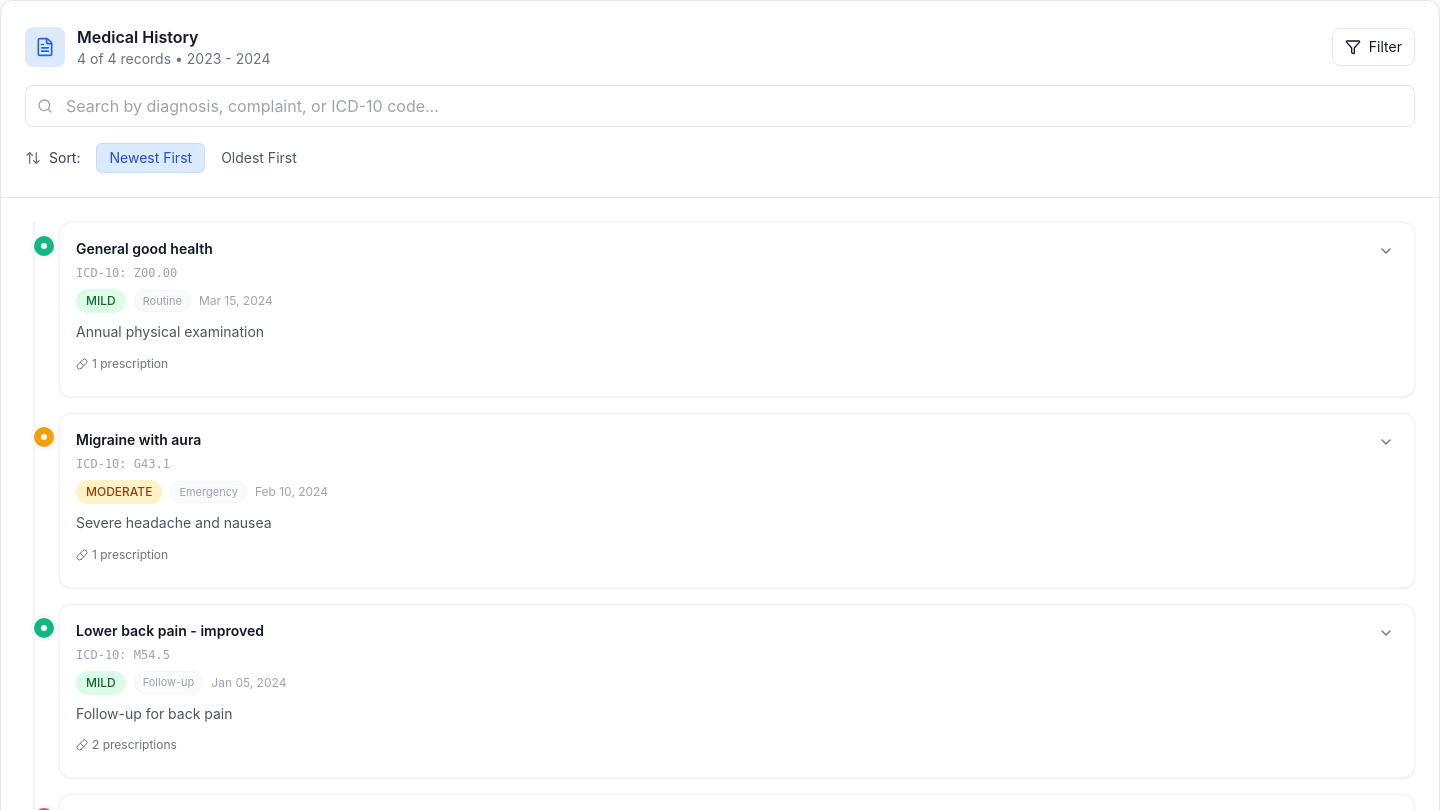
Test: MedicalHistoryTimeline › Search Functionality › can clear search
Type "migraine" into the search field named "search medical history" at coordinates (720, 106), box left=25, top=85, right=1415, bottom=127
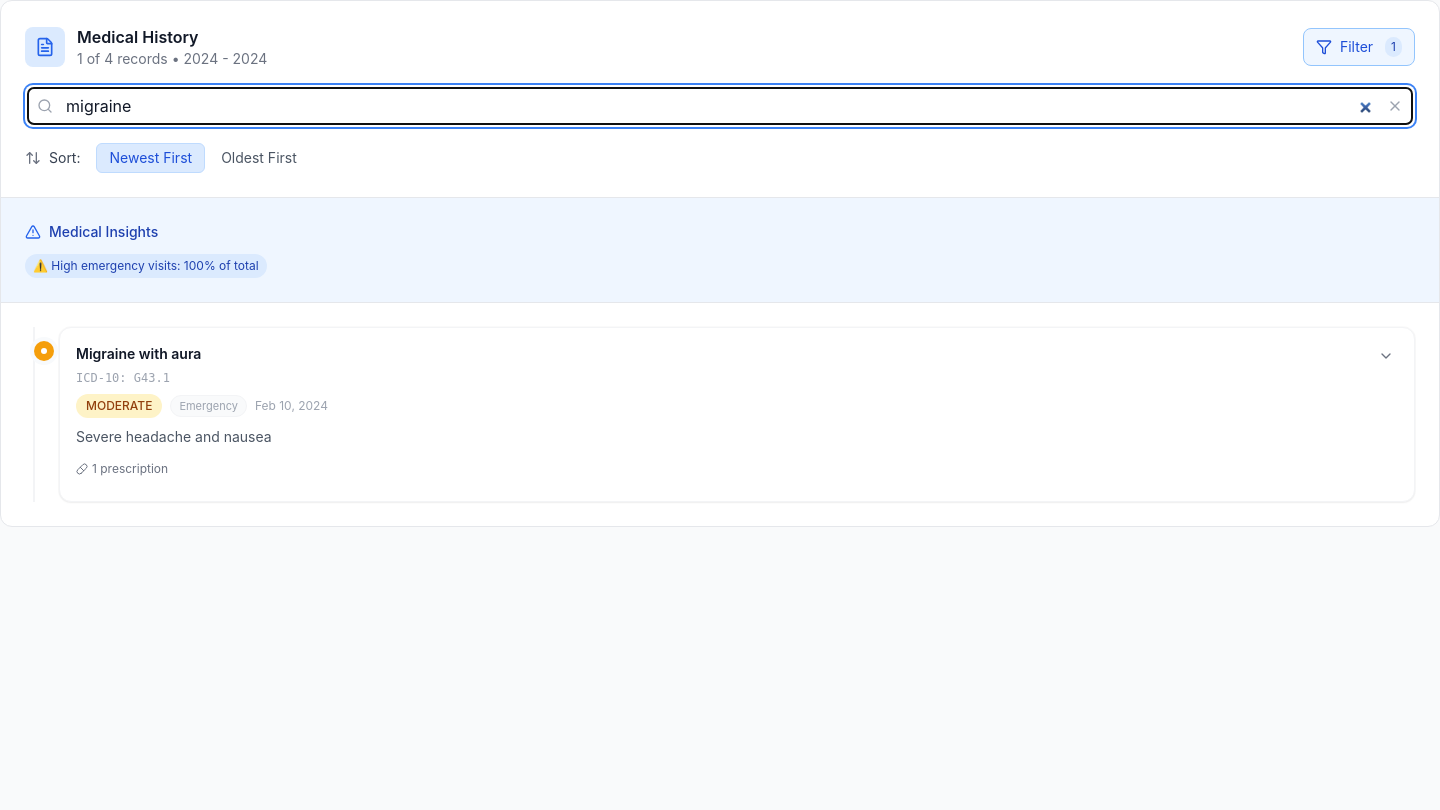
# Clear search
Click the button named "clear search" at coordinates (1395, 106), box left=1387, top=98, right=1403, bottom=114
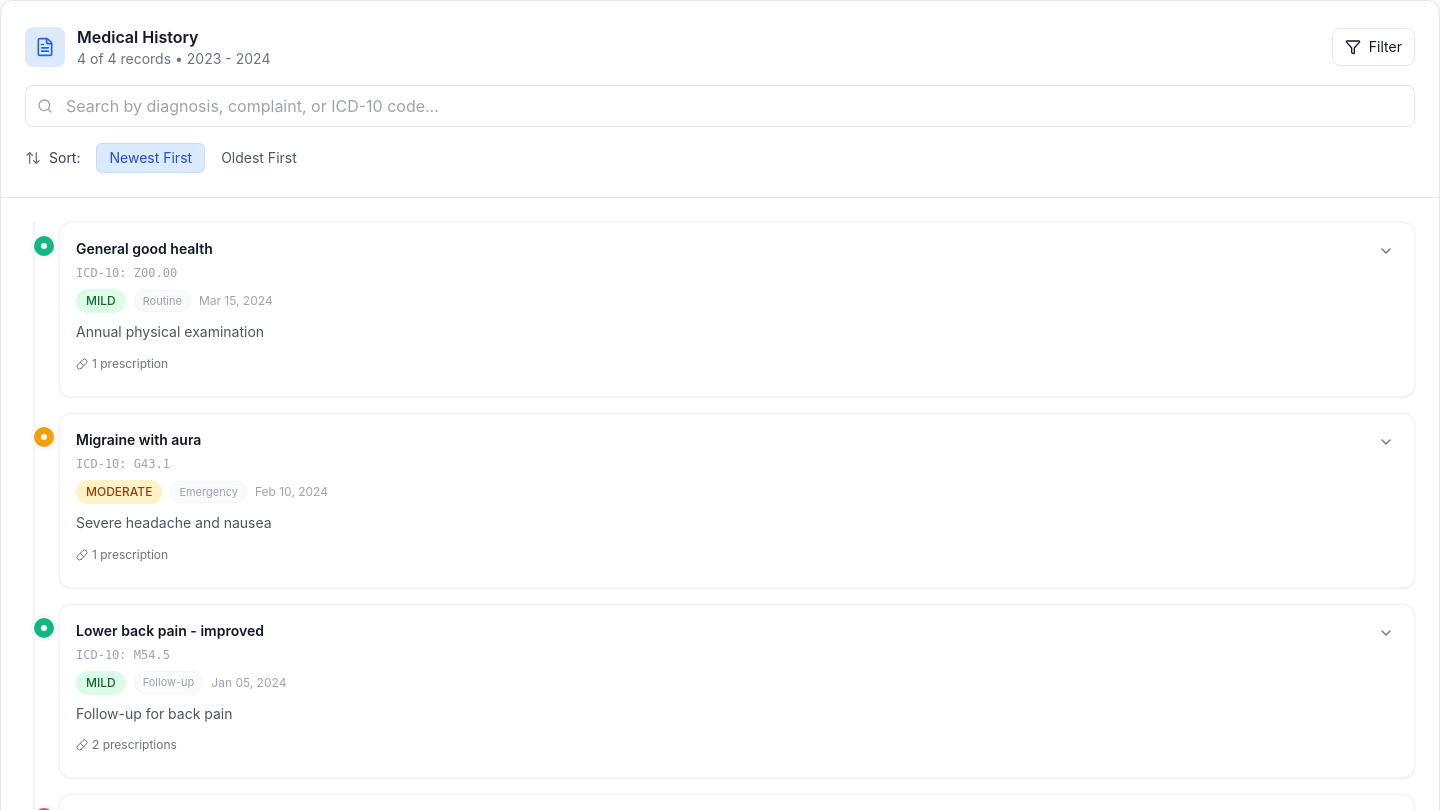
Check: the heading "General good health" is shown, box left=76, top=239, right=213, bottom=259
